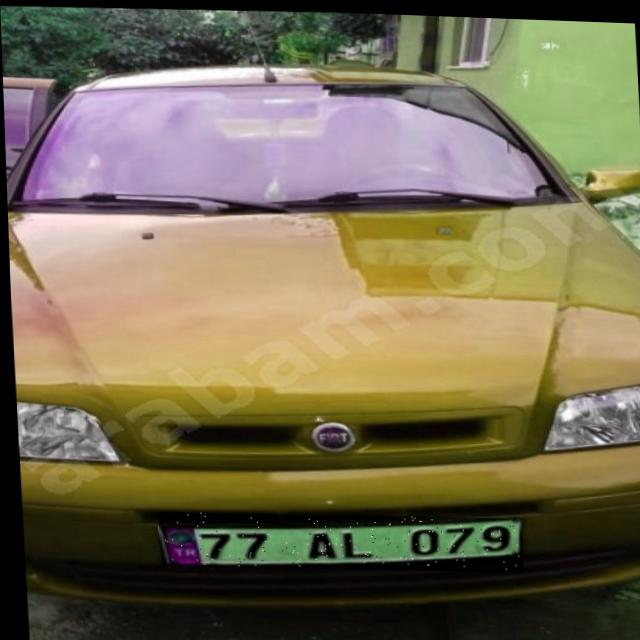license_plate: (154, 504, 519, 575)
